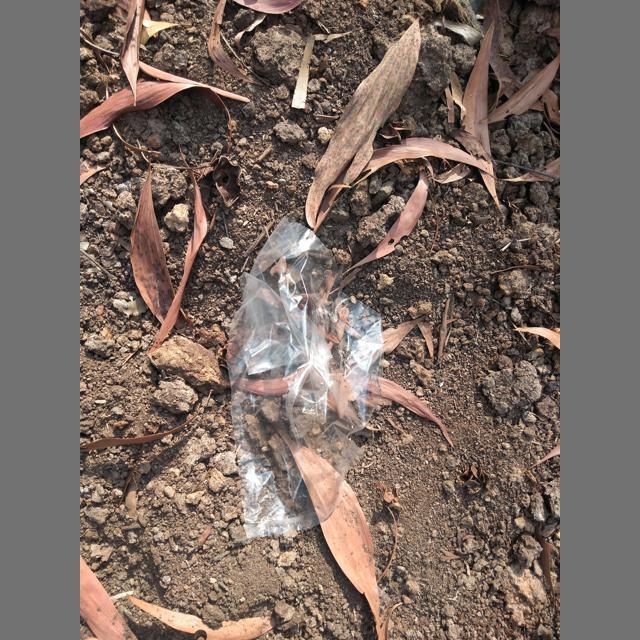litter: (227, 216, 384, 539)
